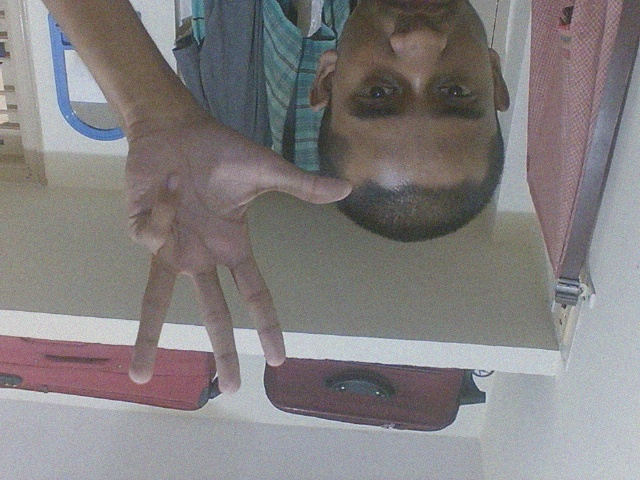hand: (114, 110, 356, 403)
